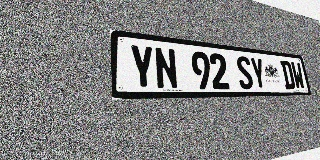2: (209, 53, 230, 89)
9: (190, 51, 213, 89)
D: (280, 60, 296, 89)
N: (154, 47, 179, 89)
S: (235, 55, 254, 89)
W: (290, 61, 305, 89)
Y: (129, 44, 156, 89), (249, 57, 267, 89)
